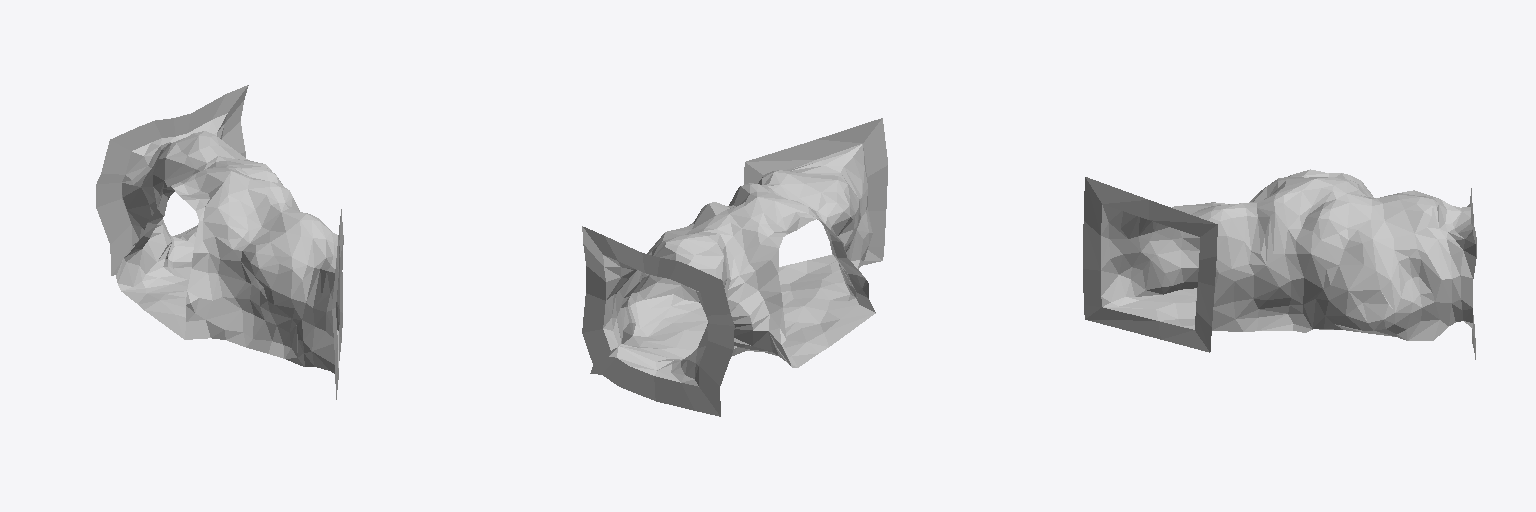
The model's file is Tunnel2_GameRes 1.OBJ.
3 views of the same model, side by side, from view 1: azimuth 30°, elevation 25°; view 2: azimuth 150°, elevation 25°; view 3: azimuth 270°, elevation 25° (orthographic).
Parts seen in each view (by area): view 1: Group20042; view 2: Group20042; view 3: Group20042.
Part boxes in pixels (x1,y1,x2,y2): Group20042: (96,85,343,399); Group20042: (582,118,887,416); Group20042: (1083,169,1476,359).
Bounding box in the file's own units: 546 × 459 × 1039.